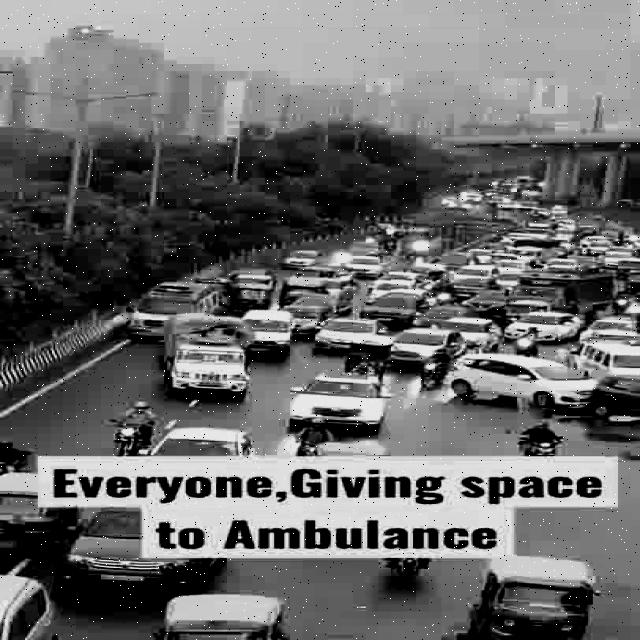Ambulance: (117, 279, 222, 340)
